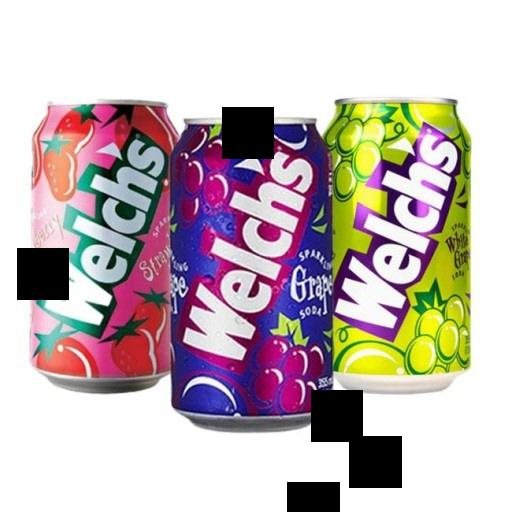welchs_grape: (168, 106, 342, 439)
